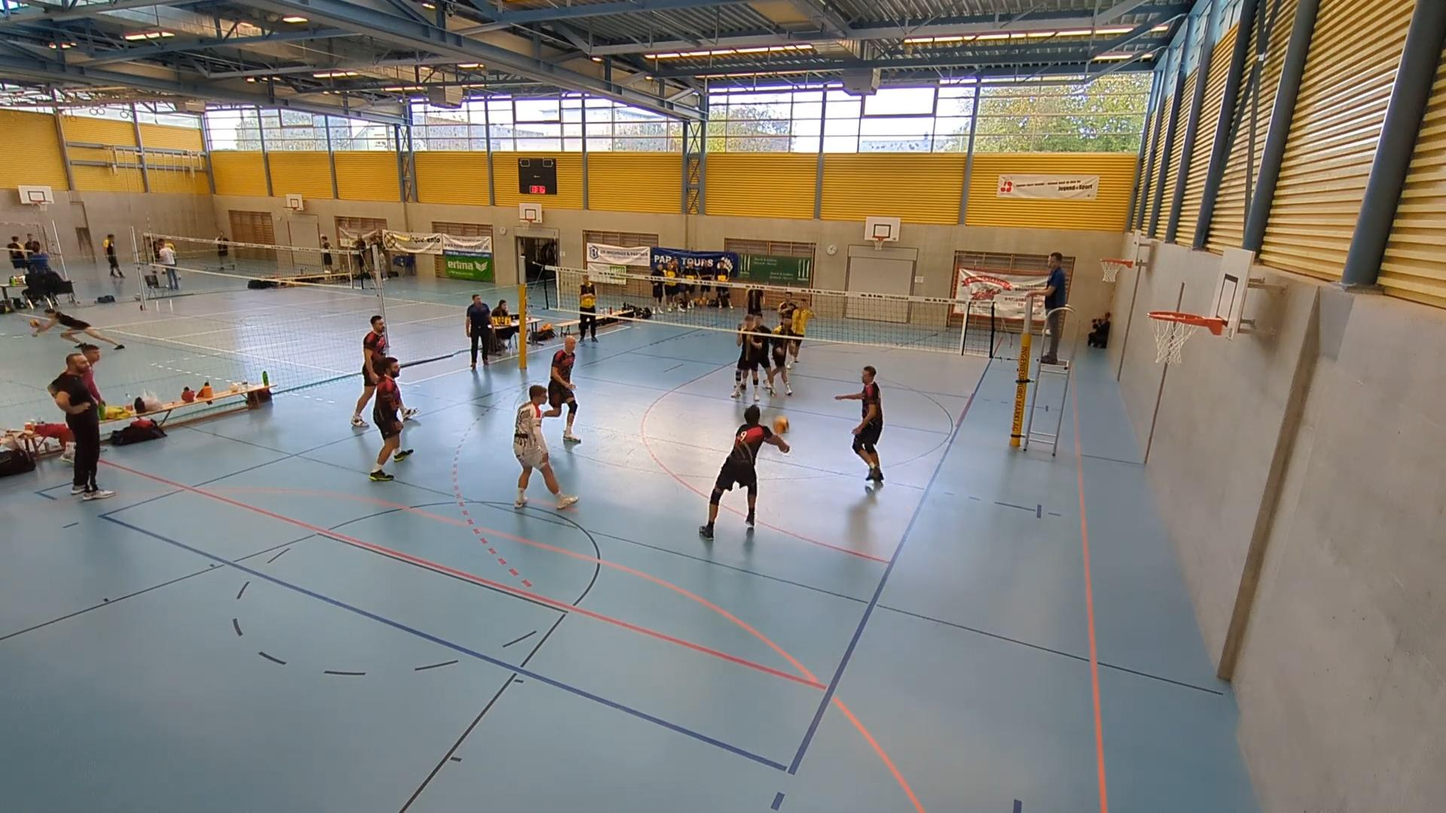difesa: (699, 399, 789, 542)
